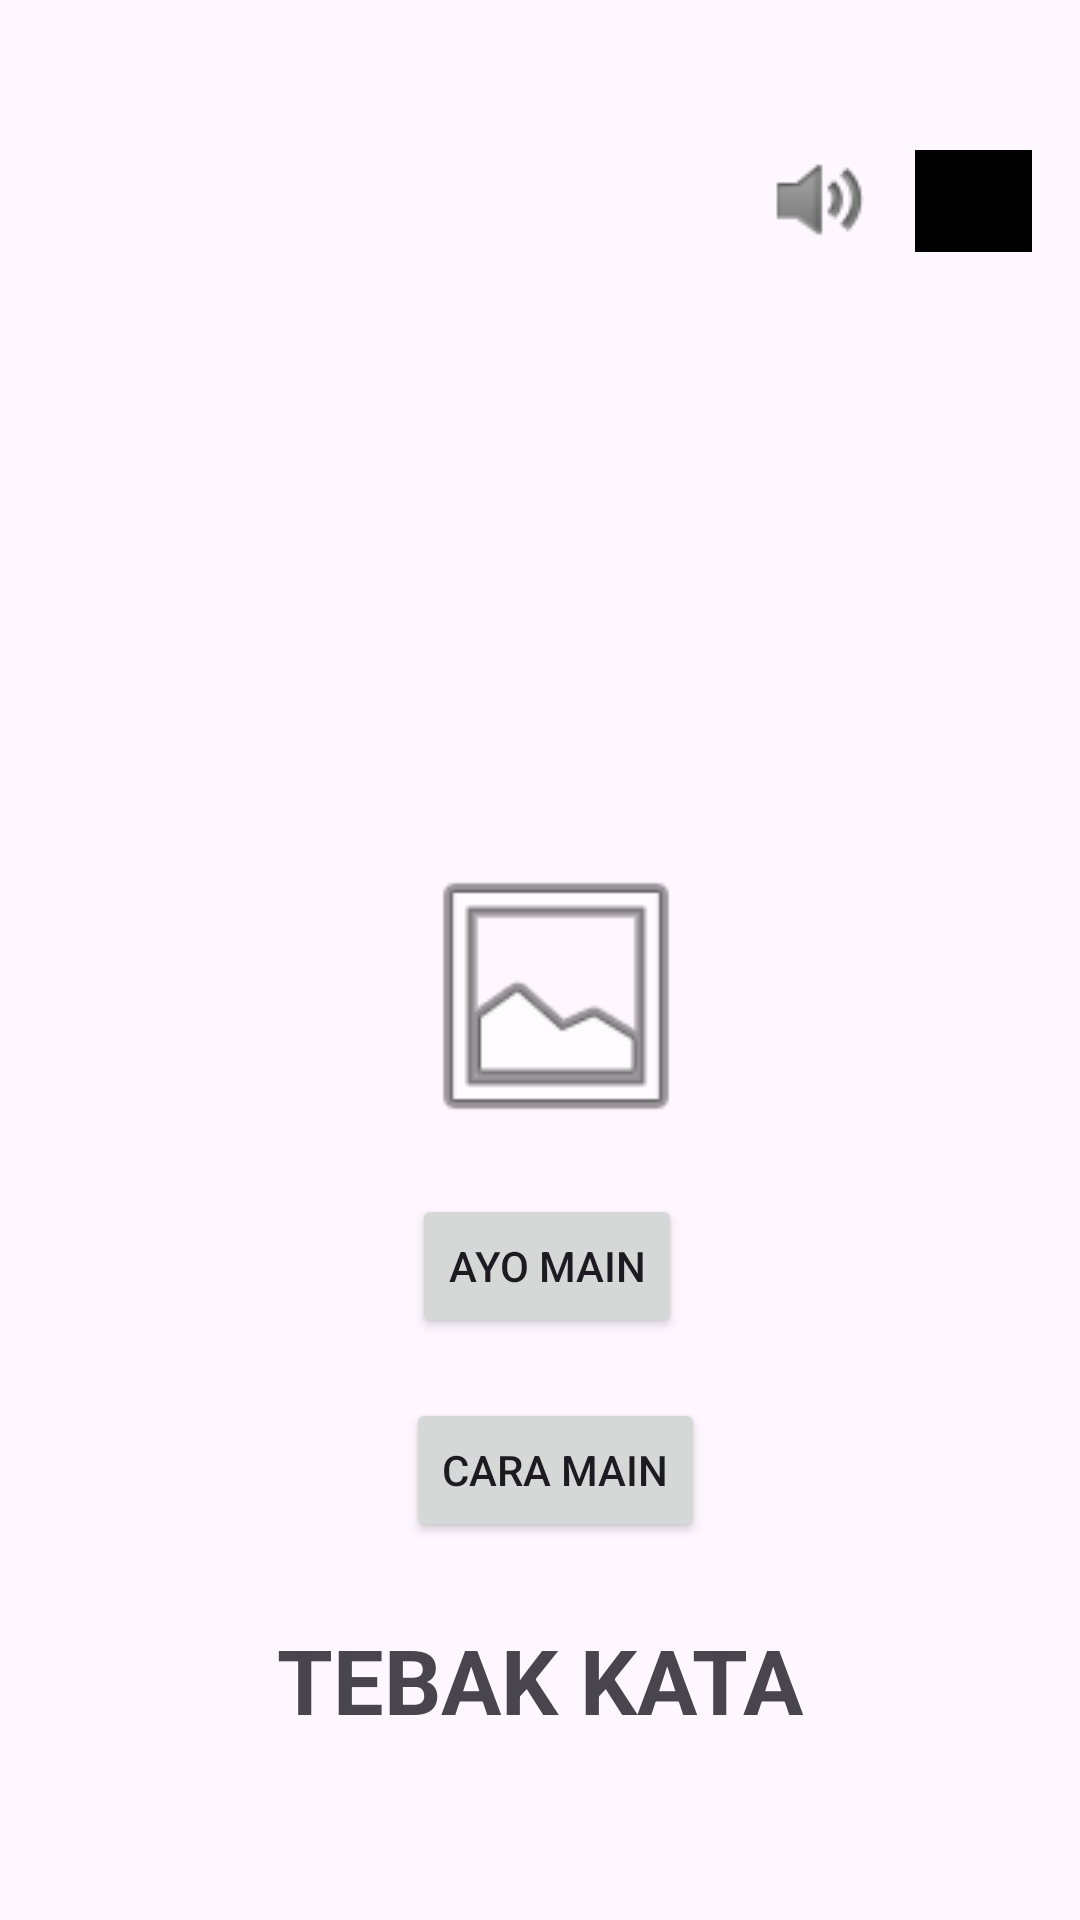

Icon click points for this 1080px×1920px phone screenshot, format (x,y):
gallery: (556,996)
lock silent mode off: (819,199)
